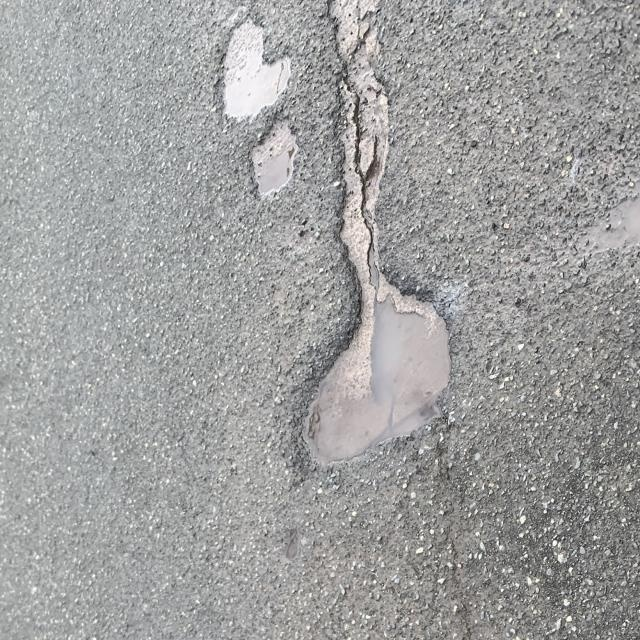pothole: (205, 31, 510, 493)
